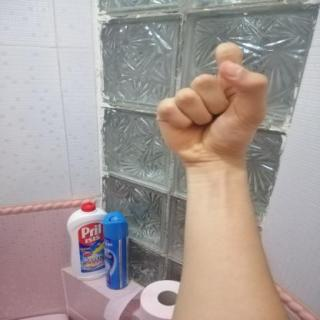FAA: (144, 32, 284, 180)
